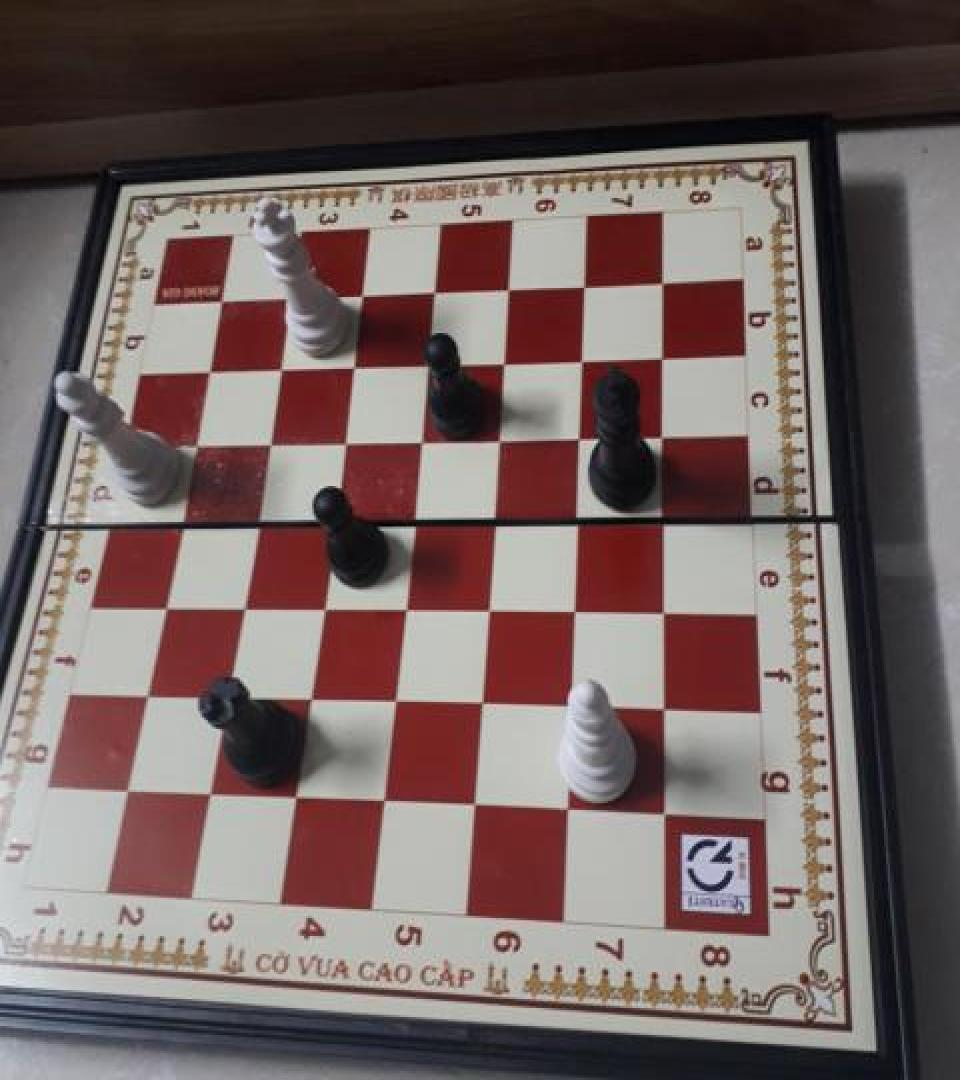xcorner: (384, 588, 416, 625), (646, 688, 678, 725), (277, 777, 309, 814), (110, 769, 142, 806), (643, 263, 675, 299), (565, 268, 597, 304), (488, 271, 520, 307), (414, 274, 446, 310), (342, 279, 374, 315), (271, 282, 303, 318), (203, 286, 235, 322), (643, 338, 675, 374), (562, 340, 594, 376), (484, 343, 516, 379), (407, 346, 439, 382), (333, 349, 365, 385), (260, 351, 292, 387), (190, 353, 222, 389), (644, 416, 676, 452), (560, 418, 592, 454), (479, 420, 511, 456), (400, 421, 432, 457), (323, 423, 355, 459), (248, 425, 280, 461), (176, 426, 208, 462), (644, 500, 676, 536), (558, 500, 590, 536), (474, 502, 506, 538), (392, 502, 424, 538), (313, 503, 345, 539), (236, 503, 268, 539), (161, 504, 193, 540), (645, 590, 677, 626), (555, 590, 587, 626), (468, 590, 500, 626), (302, 587, 334, 623), (222, 587, 254, 623), (145, 586, 177, 622), (552, 686, 584, 722), (462, 684, 494, 720), (375, 682, 407, 718), (290, 680, 322, 716), (208, 677, 240, 713), (128, 675, 160, 711), (646, 793, 678, 829), (549, 790, 581, 826), (456, 785, 488, 821), (365, 781, 397, 817), (192, 774, 224, 810)
